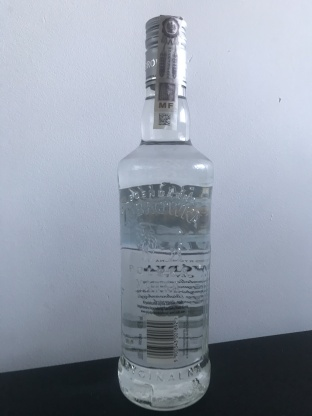nakretka: (142, 11, 189, 91)
